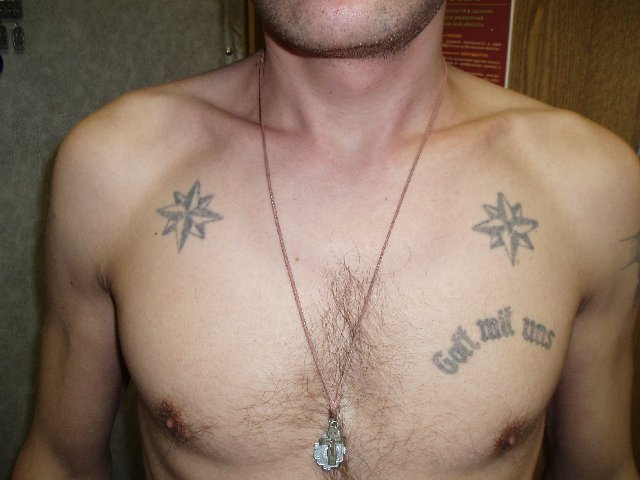tatu3_bukva: (421, 324, 485, 377), (472, 305, 519, 348), (520, 315, 559, 356)
tatu4_zvezda: (469, 193, 542, 270), (153, 180, 224, 254)
